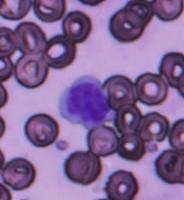M: (59, 74, 111, 128)
